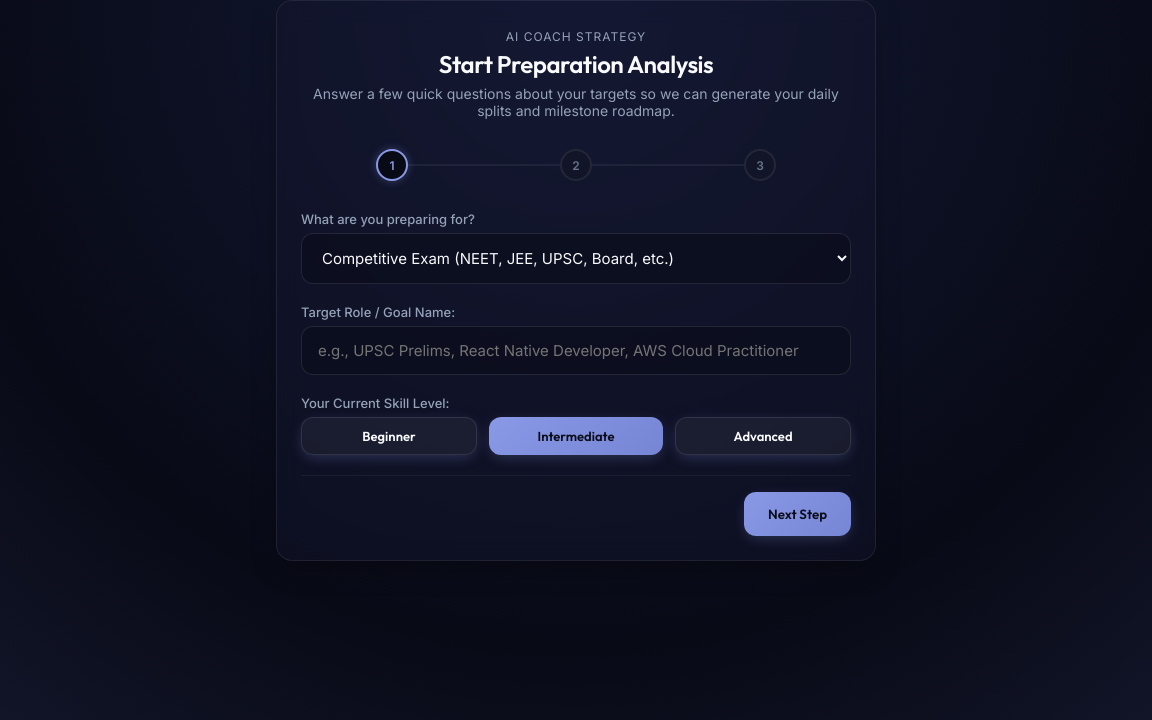
Scenario: AICoach › should show error for empty target goal on step advancement
Click the button "Next Step": (798, 514) [744,492,851,536]
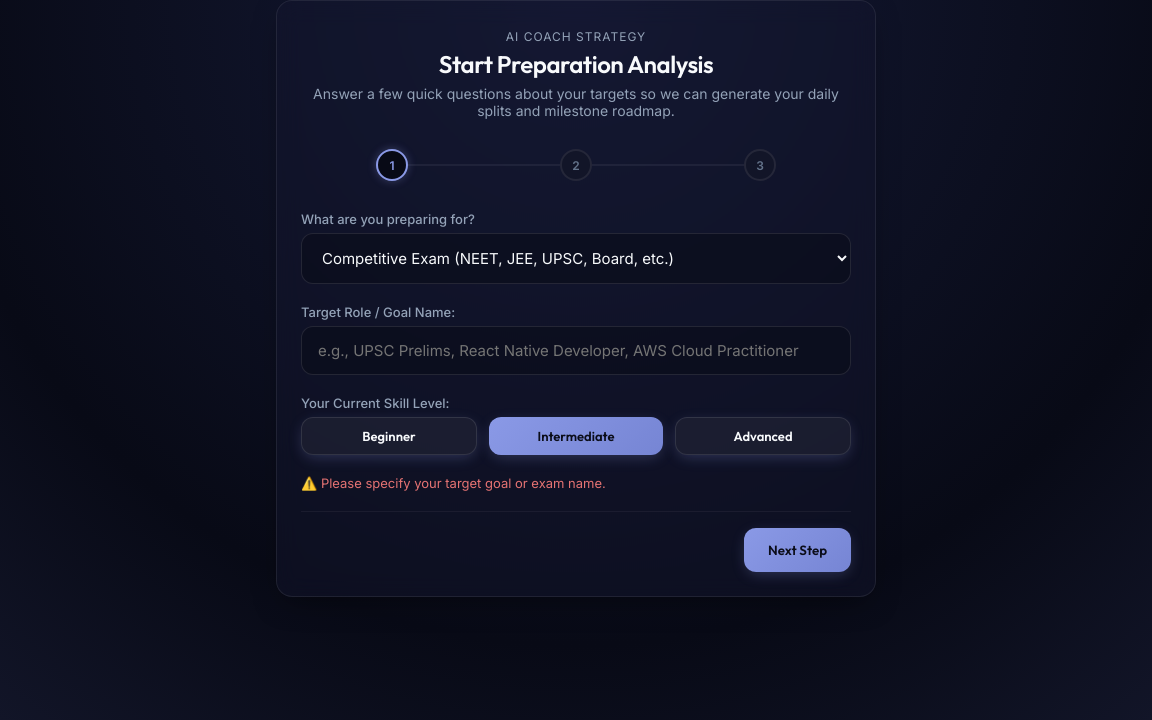
Expected: the text "⚠️ Please specify your target goal or exam name." is shown, [301,475,606,491]
